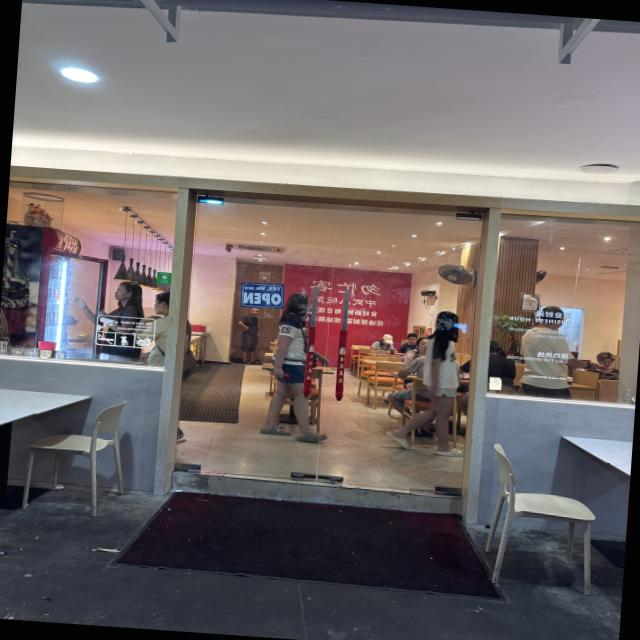door: (150, 175, 503, 527)
